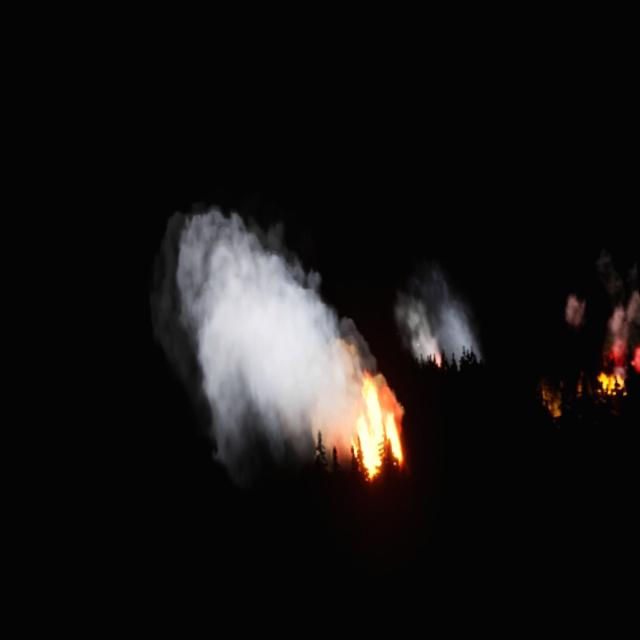fire: (345, 356, 406, 486), (589, 299, 640, 394)
smoke: (147, 195, 406, 487), (396, 260, 482, 382)
